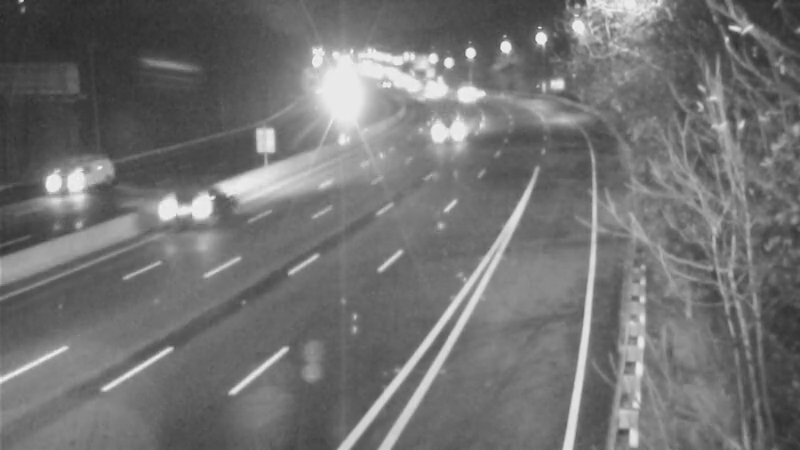vehicle: (150, 169, 230, 249), (22, 142, 102, 222), (430, 64, 480, 114), (422, 97, 472, 147)
